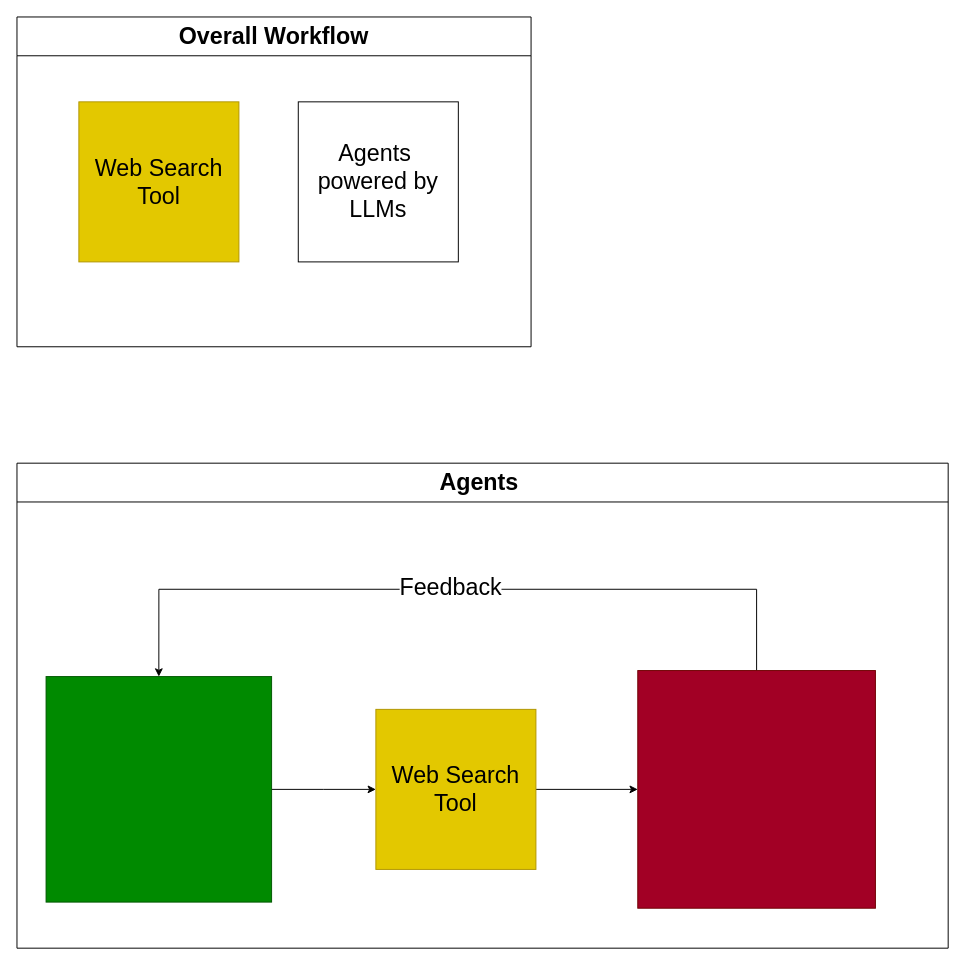
The diagram is 965 pixels wide and 965 high, and some of its shapes have lost their labels. Here are the shapes that lost their labels. From the top down, the centre of each, then its label:
At (158,789): "Planning Agent".
At (756,789): "Integration Agent".
